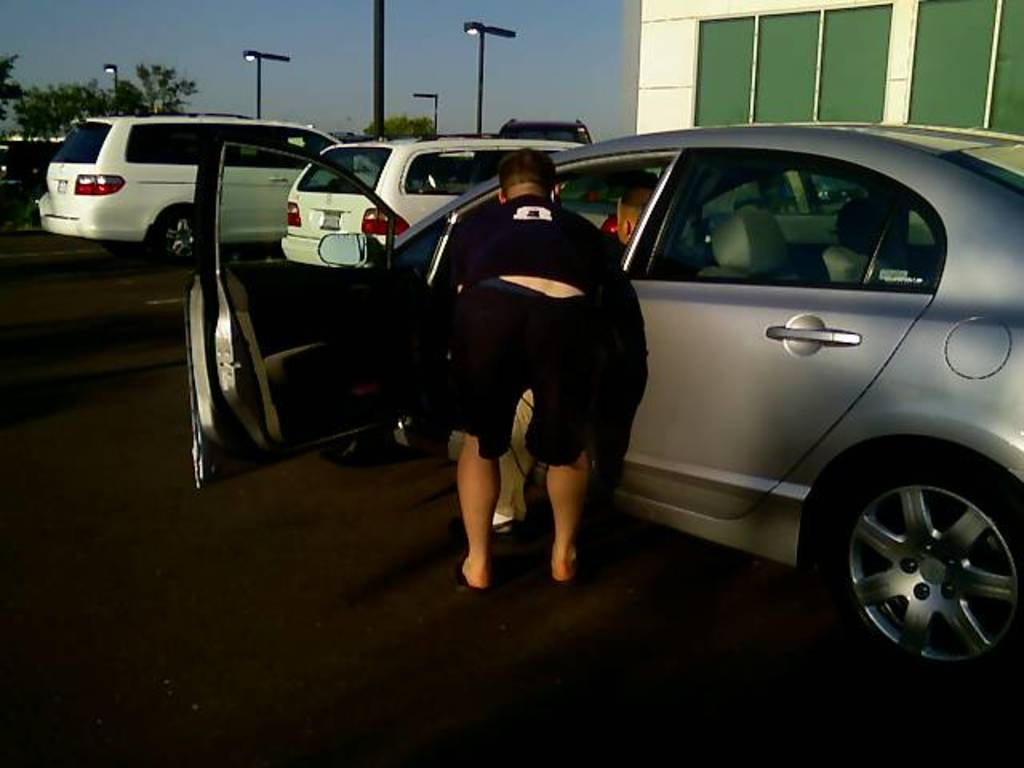Car: (184, 120, 1022, 702), (38, 116, 348, 265), (283, 132, 582, 273), (496, 118, 595, 139)
